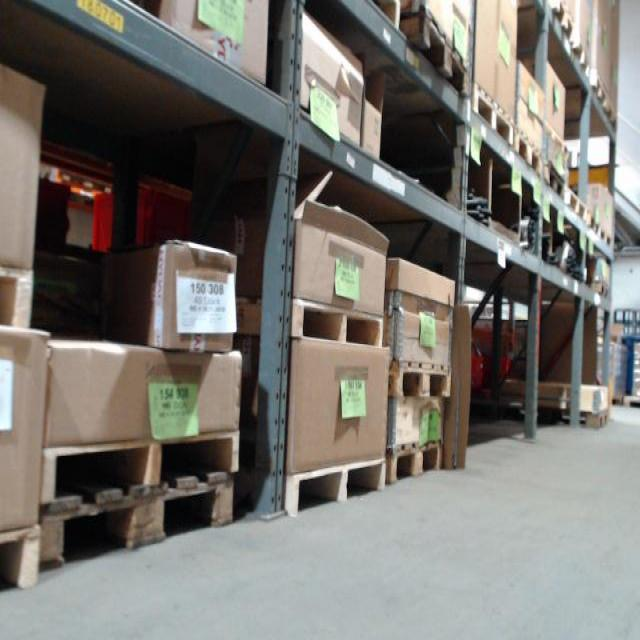pallet: (39, 473, 237, 570), (37, 425, 243, 505), (228, 291, 388, 350), (398, 0, 469, 104), (279, 458, 389, 516), (472, 81, 518, 155), (387, 439, 443, 490), (388, 360, 454, 399), (0, 526, 37, 592), (535, 407, 616, 434), (545, 1, 575, 53), (348, 4, 399, 31), (516, 132, 541, 187), (568, 36, 593, 83), (543, 161, 568, 207), (565, 189, 588, 229), (589, 70, 607, 109), (588, 209, 600, 246)
